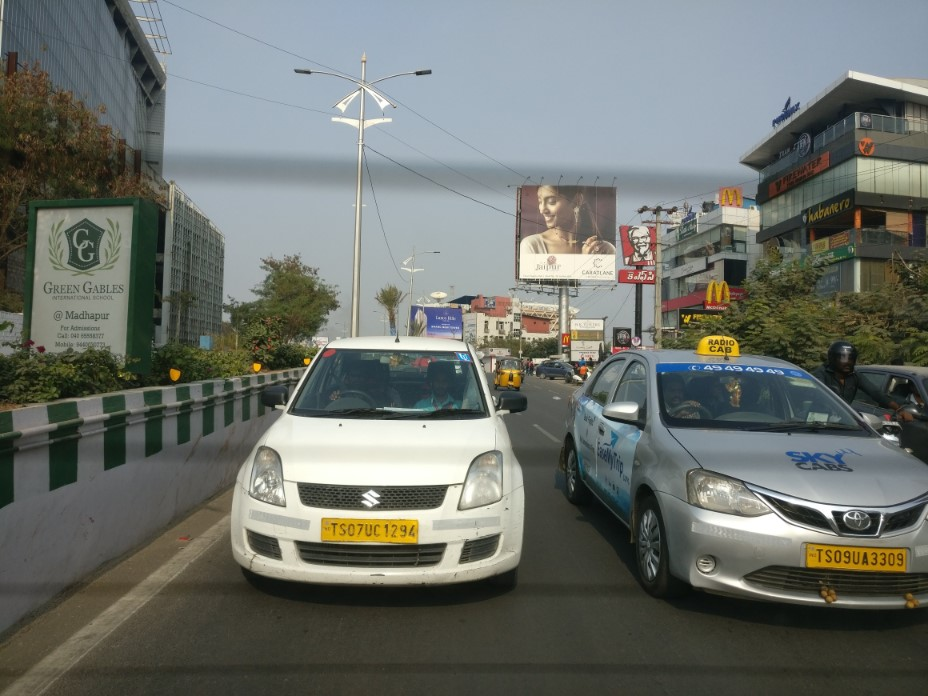swift desire: (231, 339, 533, 596)
